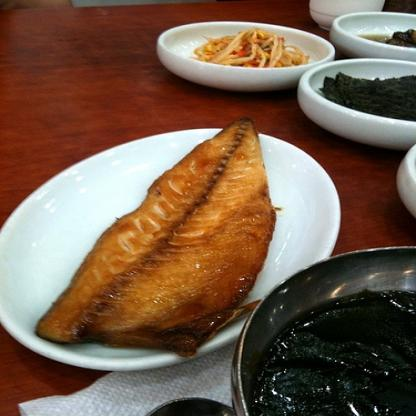Peixe: (7, 100, 288, 372)
